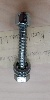FinishedAssembly: (14, 10, 32, 84)
